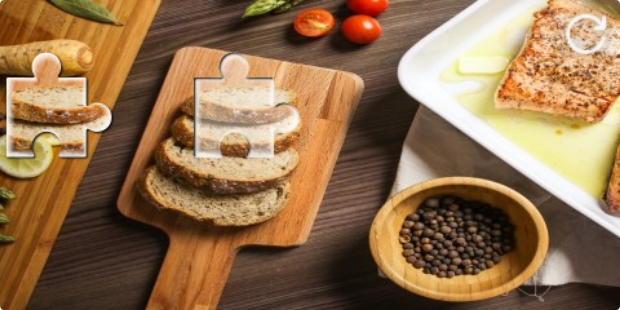target: (194, 53, 300, 158)
